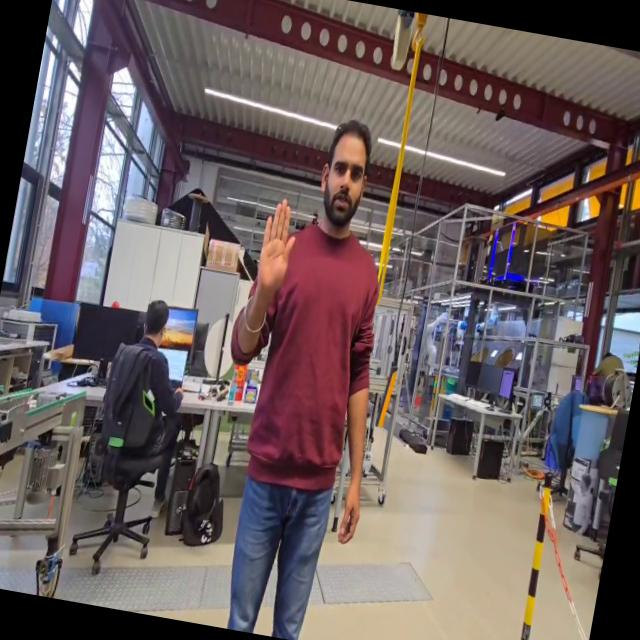open_palm: (246, 190, 306, 312)
